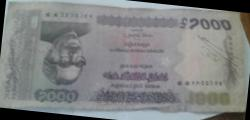1000 taka: (7, 2, 246, 113)
